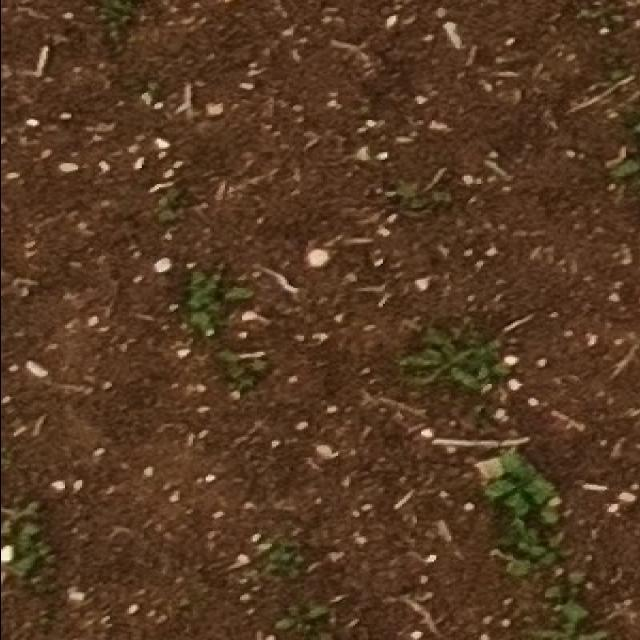cirse: (417, 329, 499, 396), (398, 350, 482, 411), (394, 323, 472, 385)
